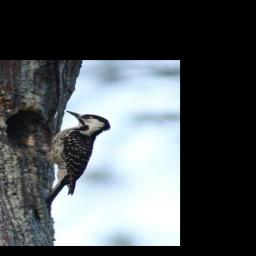Woodpecker: (19, 109, 113, 205)
